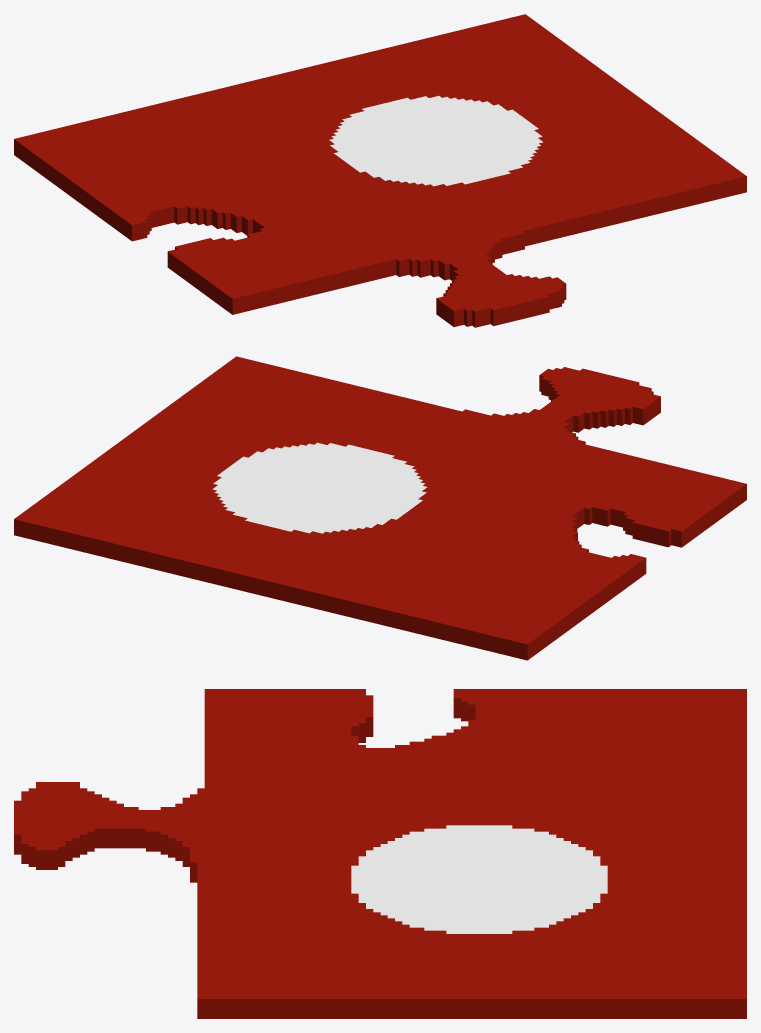
The model's file is puzzle_1.obj.
The picture shows the model from 3 angles, top to bottom: view 1: azimuth 30°, elevation 25°; view 2: azimuth 150°, elevation 25°; view 3: azimuth 270°, elevation 25°; orthographic projection. The views are drawn at different scales.
Size of the model in its own units: 100 by 3 by 100.
1 material, 1 textured.
